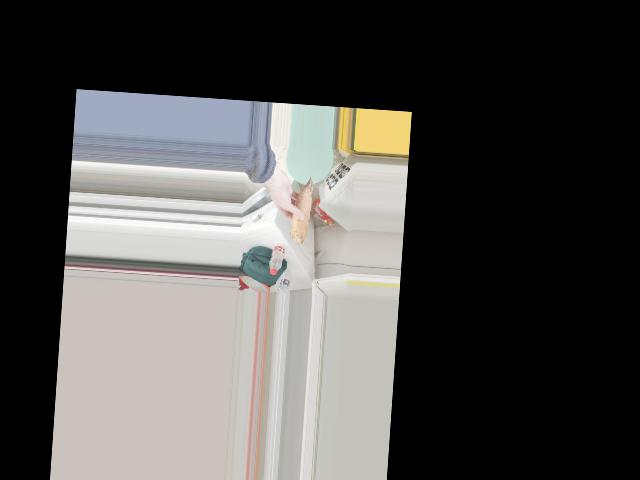sweet_potato: (292, 175, 311, 247)
